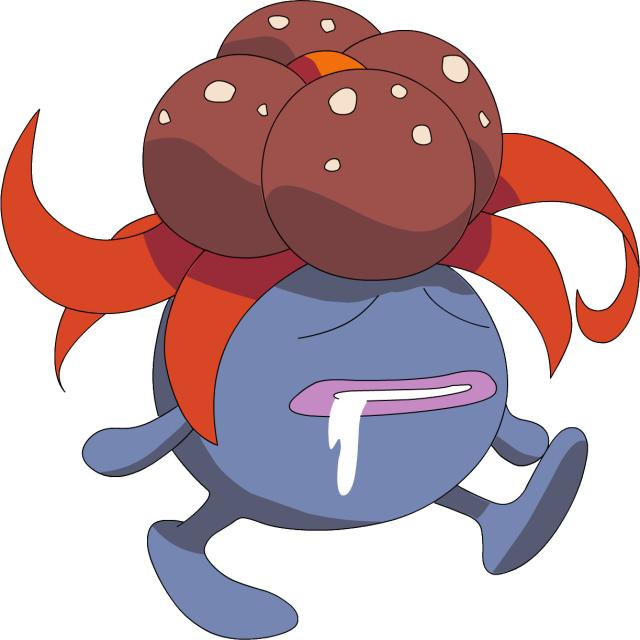Gloom: (143, 5, 521, 565)
